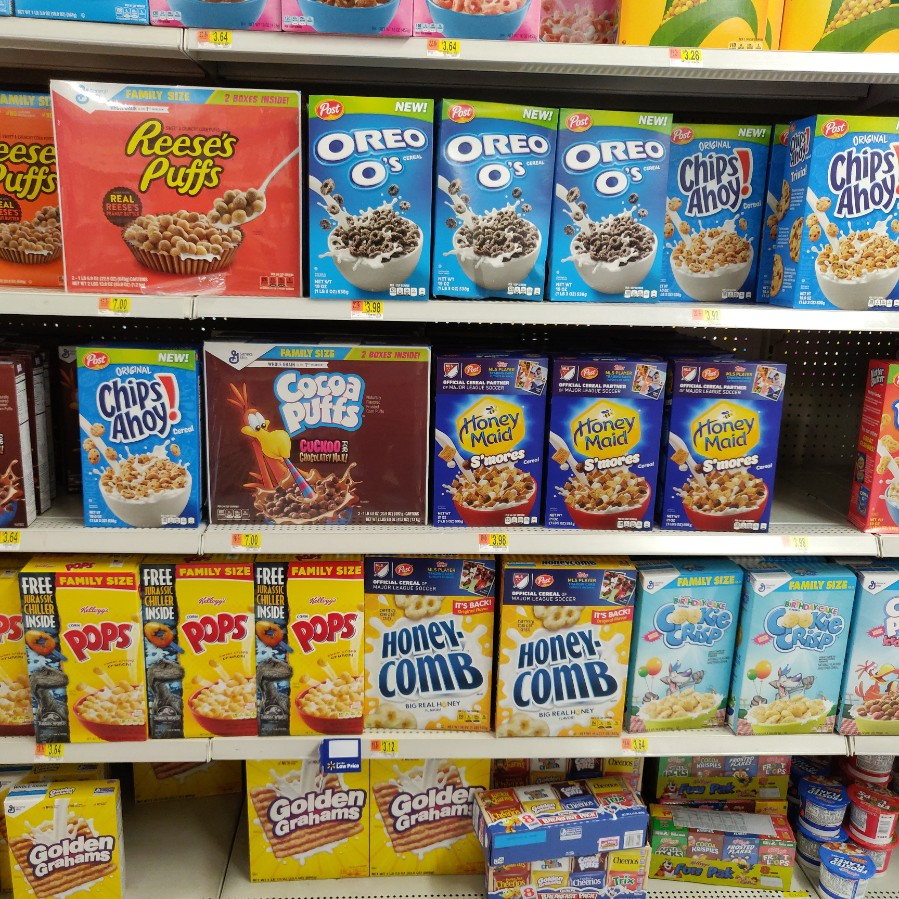Chips Ahoys-565717529: (75, 346, 203, 526), (663, 117, 776, 306), (818, 118, 899, 302)
Honey Comb- 009288857: (362, 556, 492, 732), (501, 560, 631, 735)
Oreo-563424384: (307, 97, 437, 305), (431, 93, 551, 306), (558, 107, 661, 299)
